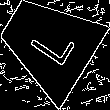L_NW: (20, 17, 76, 70)
